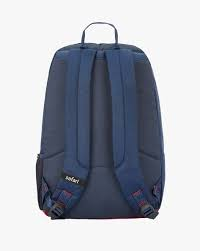backpack: (35, 21, 165, 220)
